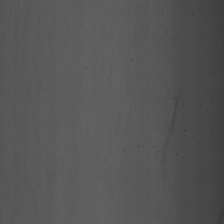inclusion: (156, 90, 182, 168), (183, 126, 195, 141), (135, 142, 141, 151)
